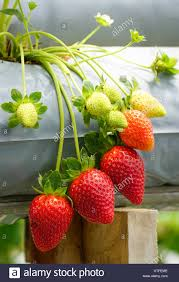ripe: (26, 185, 73, 255), (72, 166, 119, 230), (101, 145, 146, 206)
unripe: (120, 110, 157, 155), (123, 92, 169, 121), (83, 88, 110, 123), (101, 106, 128, 132)
